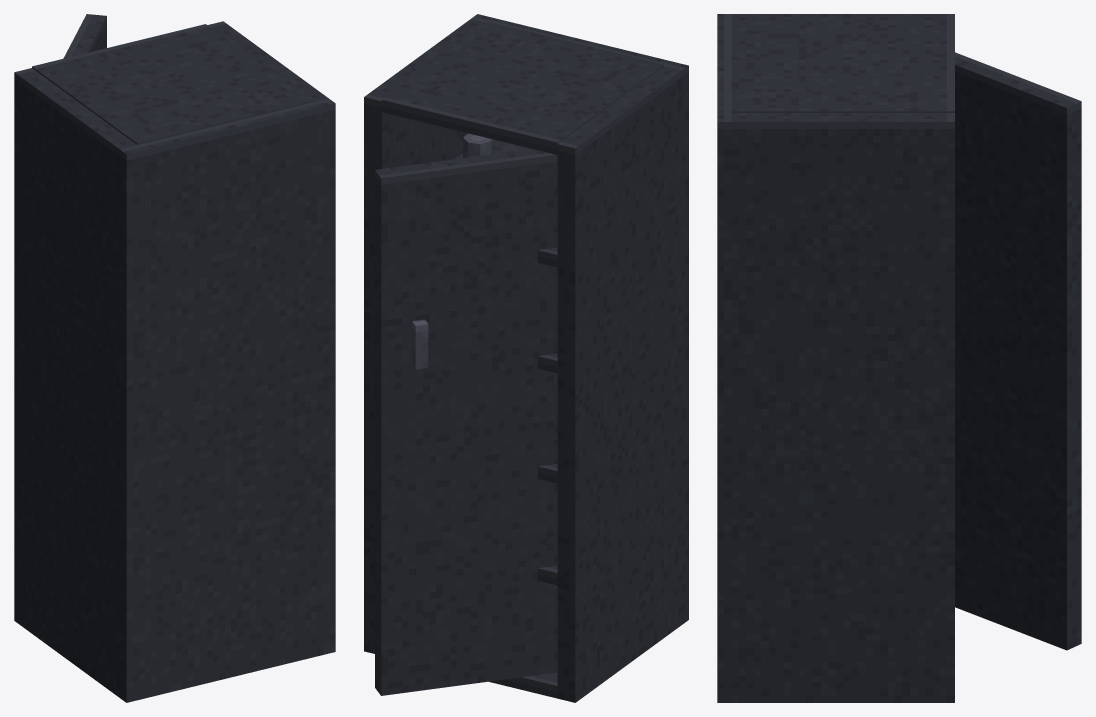
The model's file is f_vitrified_fridge.glb.
The picture shows the model from 3 angles, left to right: view 1: azimuth 30°, elevation 25°; view 2: azimuth 150°, elevation 25°; view 3: azimuth 270°, elevation 25°; orthographic projection. The views are drawn at different scales.
Visible parts, largest first — view 1: block_back, block_side--0.32499999999999996, block_shelf-5, block_side-0.32499999999999996, block_glassy-door-slab; view 2: block_glassy-door-slab, block_side--0.32499999999999996, block_shelf-5, block_side-0.32499999999999996, block_back, block_shelf-0, block_glassy-handle, block_shelf-4, block_fused-food-protrusion; view 3: block_side-0.32499999999999996, block_glassy-door-slab, block_shelf-5, block_back, block_side--0.32499999999999996.
Part boxes in pixels (x1,y1,x2,y2): block_back: (119, 98, 335, 702); block_side--0.32499999999999996: (14, 68, 136, 697); block_shelf-5: (32, 24, 311, 144); block_side-0.32499999999999996: (207, 21, 328, 102); block_glassy-door-slab: (63, 14, 106, 58); block_glassy-door-slab: (375, 149, 557, 695); block_side--0.32499999999999996: (557, 66, 681, 702); block_shelf-5: (382, 22, 663, 154); block_side-0.32499999999999996: (364, 19, 486, 653); block_back: (471, 14, 688, 624); block_shelf-0: (489, 672, 557, 698); block_glassy-handle: (412, 319, 428, 369); block_shelf-4: (455, 139, 557, 267); block_fused-food-protrusion: (463, 133, 492, 157); block_side-0.32499999999999996: (731, 113, 954, 702); block_glassy-door-slab: (955, 52, 1081, 650); block_shelf-5: (731, 21, 954, 112); block_back: (717, 14, 731, 702); block_side--0.32499999999999996: (731, 14, 954, 21).
Size of the model in its own units: 0.71 by 1.78 by 1.01.
Materials: 2 (2 with a texture image).
